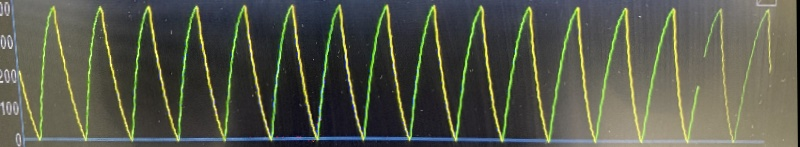normal_volume: (29, 2, 747, 146)
